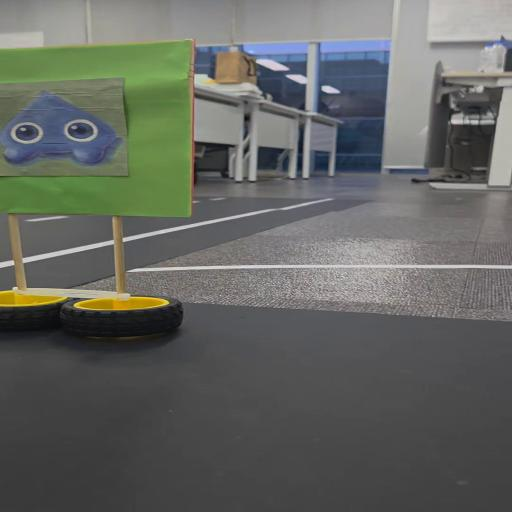Sign_B: (2, 46, 209, 354)
